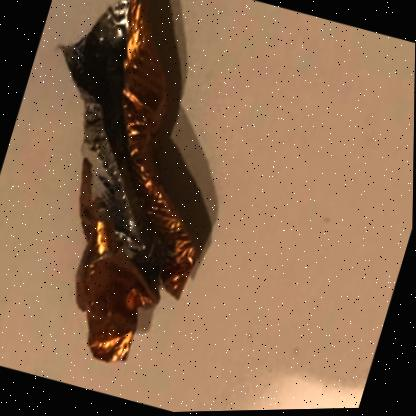Metal: (61, 0, 196, 362)
